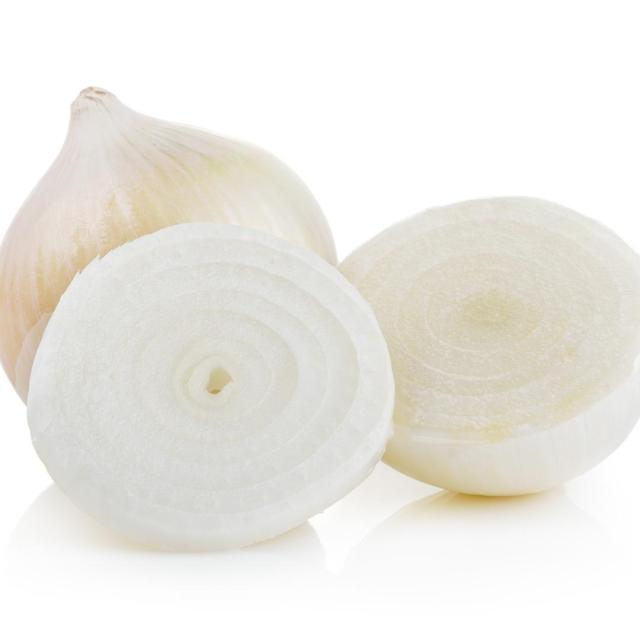Onion: (24, 218, 392, 555), (0, 82, 341, 431), (317, 194, 640, 511)
